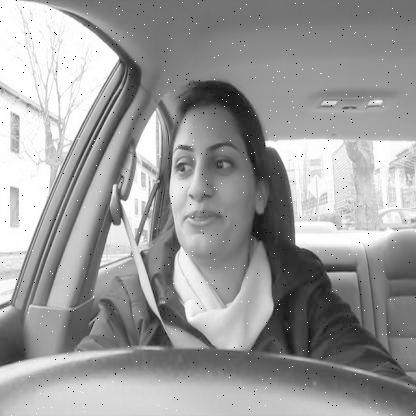seatbelt: (107, 58, 277, 348)
